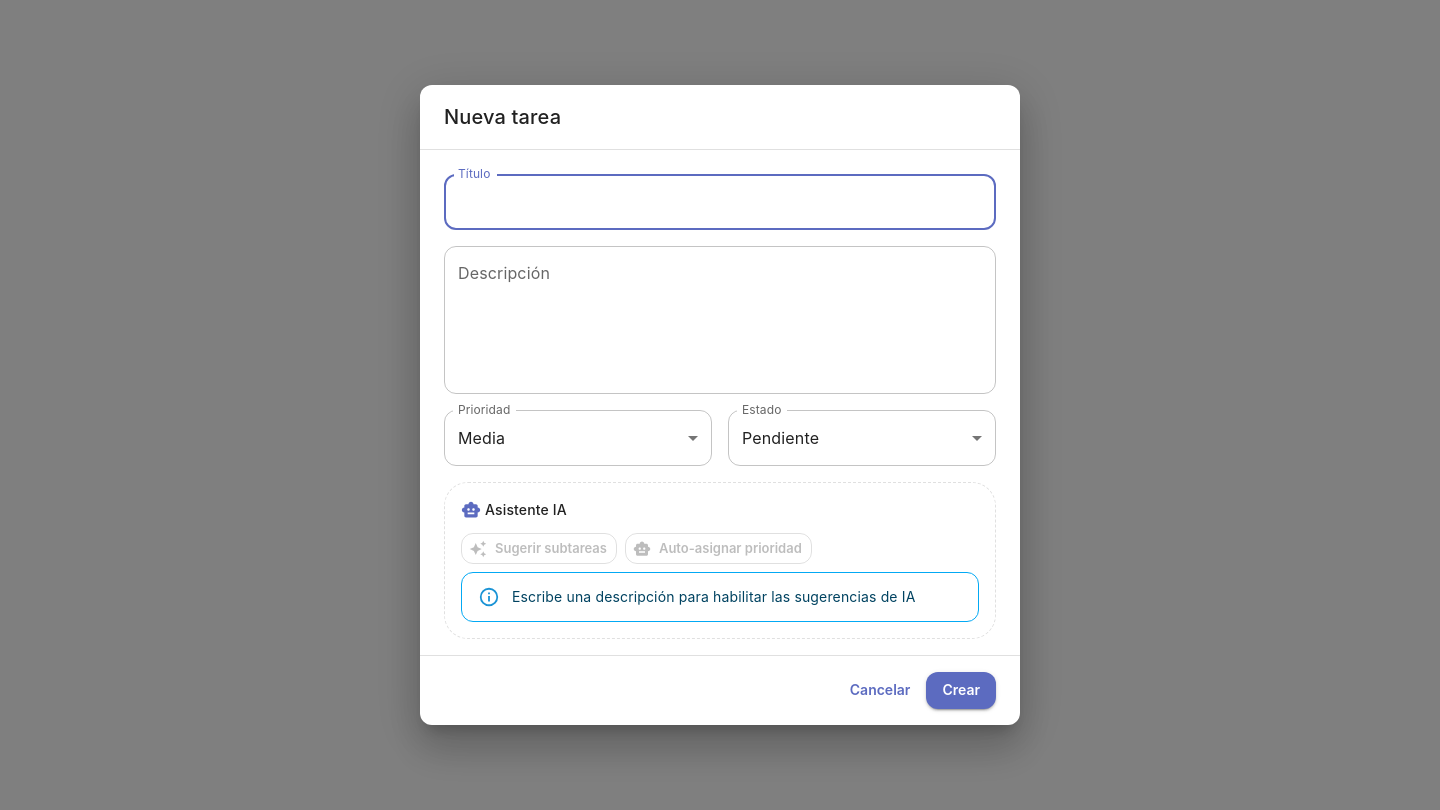
Test: TaskFormDialog › sección IA › debe clasificar la tarea al hacer click en "Auto-clasificar"
Step 1. Type "Reunión de trabajo" into the field labelled "Título" → [720, 202], box [444, 174, 996, 230]
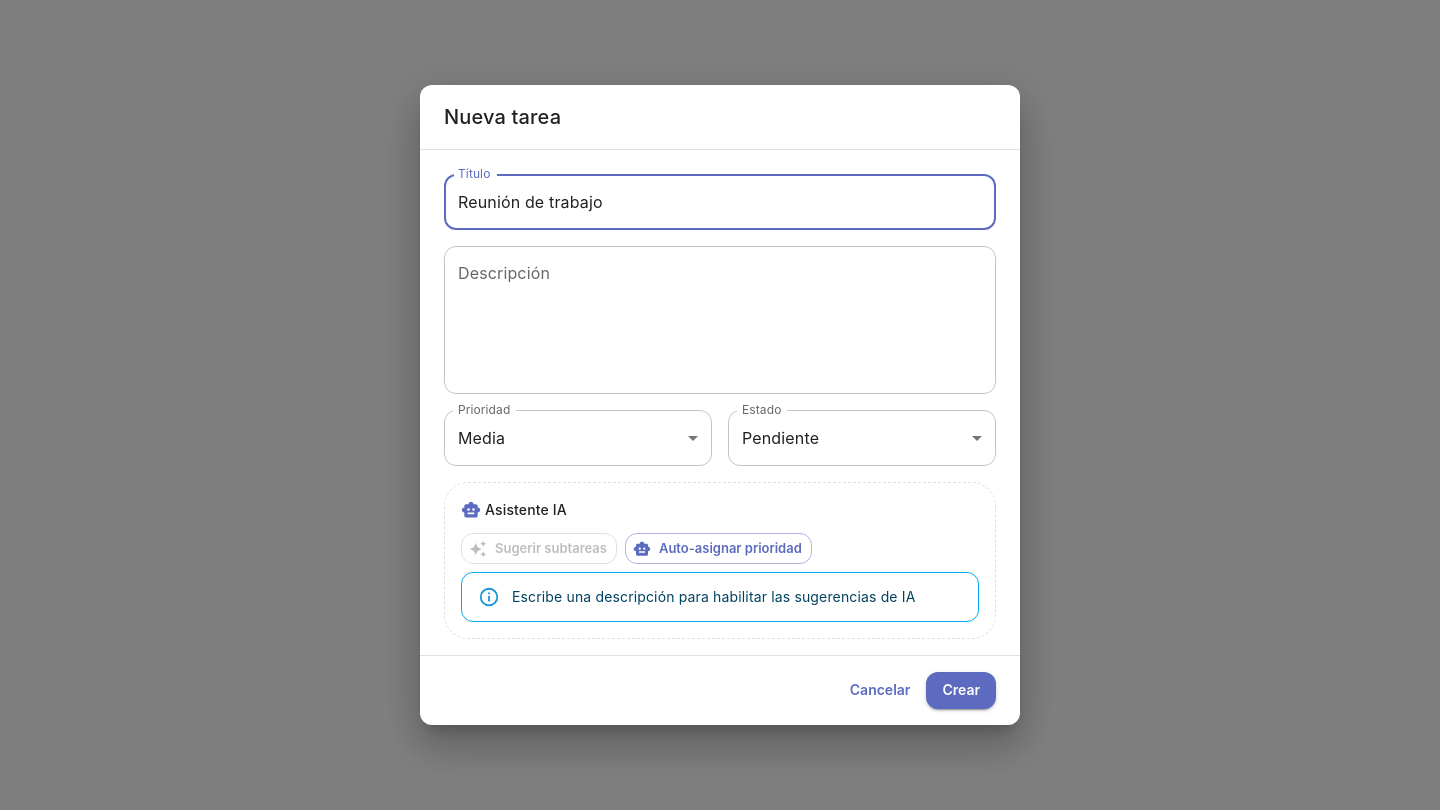
Step 2. Type "Reunión con el cliente del proyecto" into the text box labelled "Descripción" → [720, 320], box [458, 263, 982, 378]
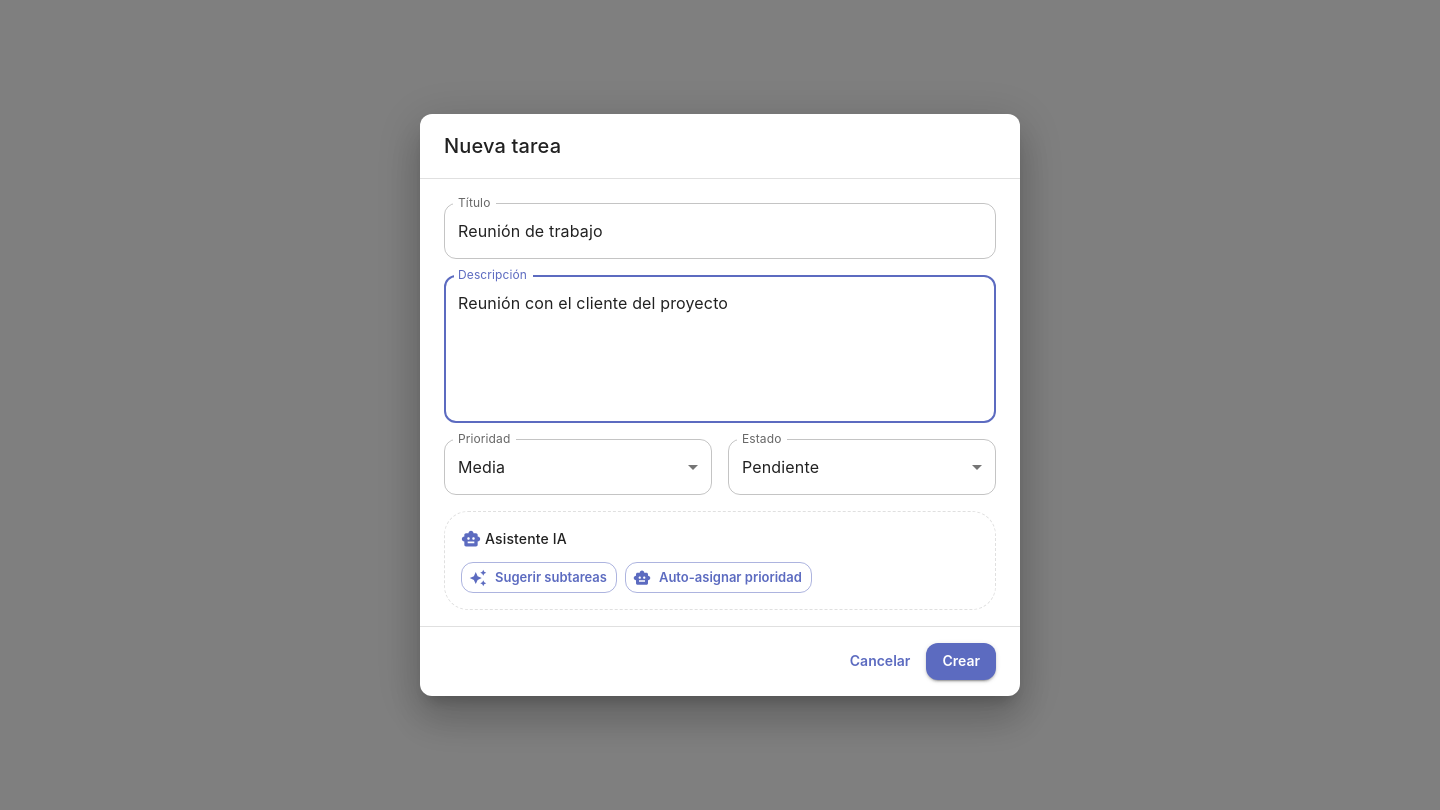
Step 3. Click the button "Auto-asignar prioridad" → [718, 578], box [625, 562, 812, 593]
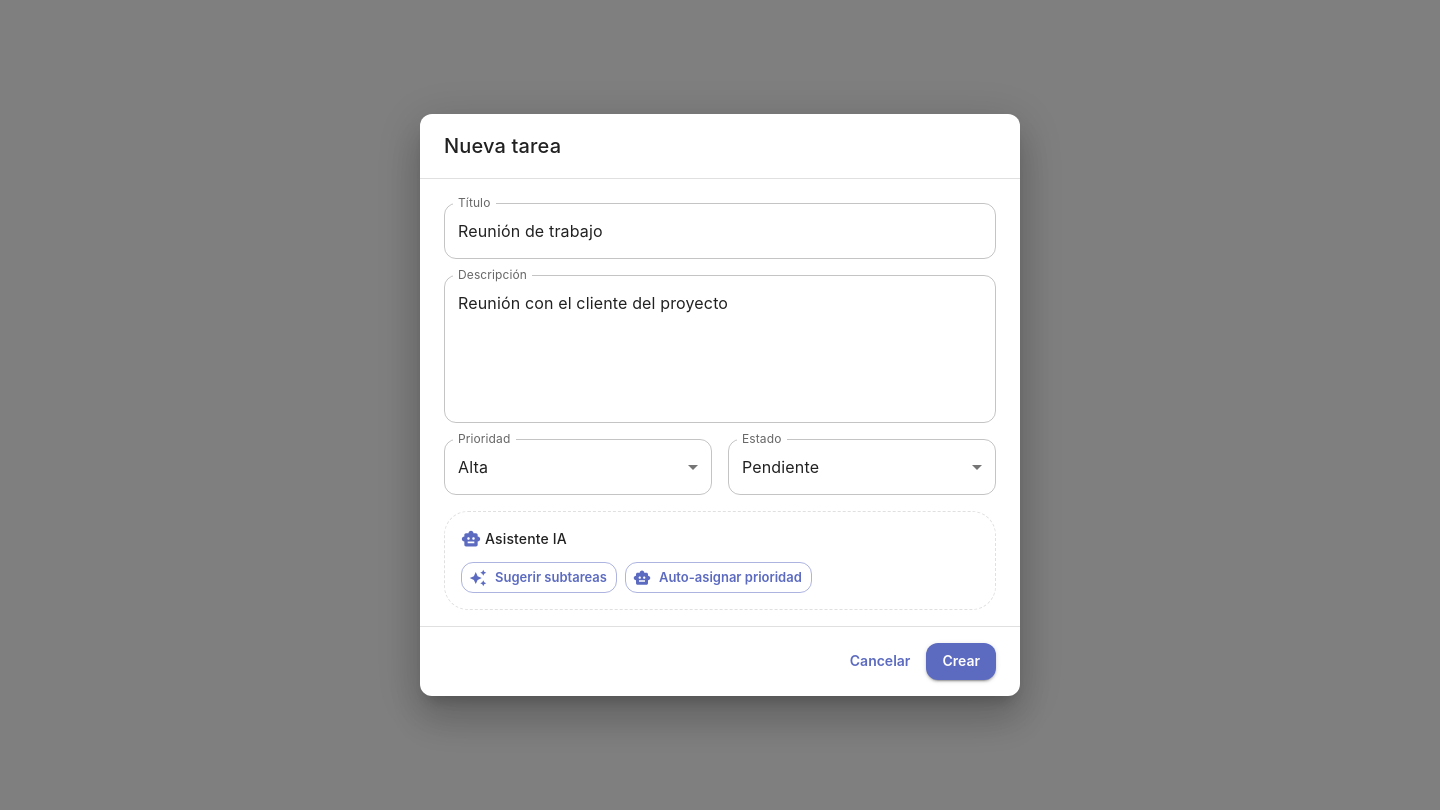
Now the dropdown named "Prioridad" reads "Alta", box [458, 457, 488, 477]
